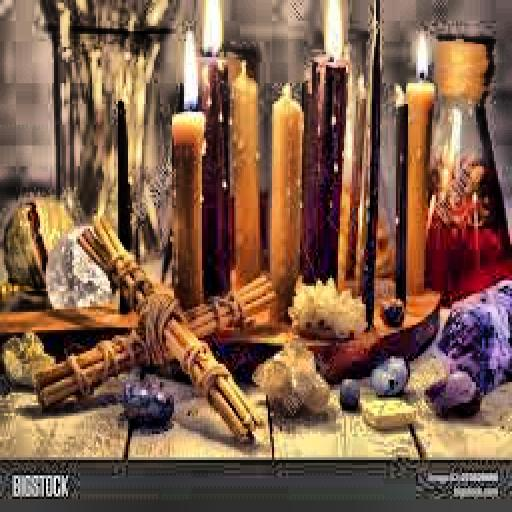fire: (172, 26, 204, 109), (320, 3, 350, 57), (200, 2, 224, 54), (410, 31, 434, 81)
